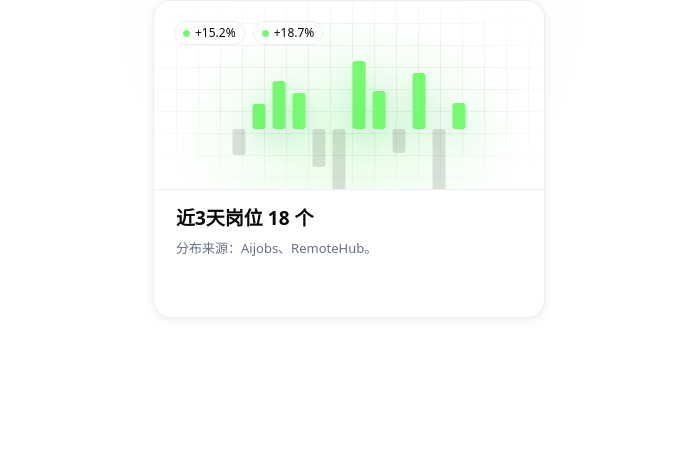
Test: IntelligencePanel › renders every paragraph from a long intelligence narrative inside the paper copy
The image size is (700, 460).
Click the element named "打开猎场控制台" at (349, 159), box [153,0,545,318]
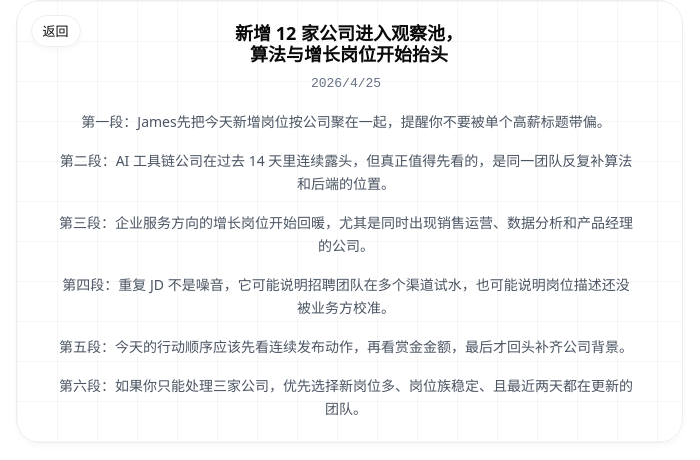
Expected: the element with class "intel-paper-copy" is shown
Expected: the text "第一段：James先把今天新增岗位按公司聚在一起，提醒你不要被单个高薪标题带偏。" is shown, [81,110,611,133]
Expected: the text "第二段：AI 工具链公司在过去 14 天里连续露头，但真正值得先看的，是同一团队反复补算法和后端的位置。" is shown, [56,149,636,195]
